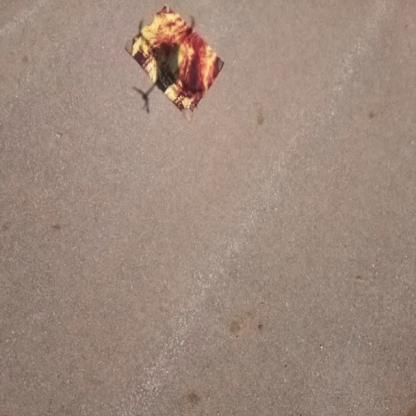fire-poster: (124, 4, 225, 121)
